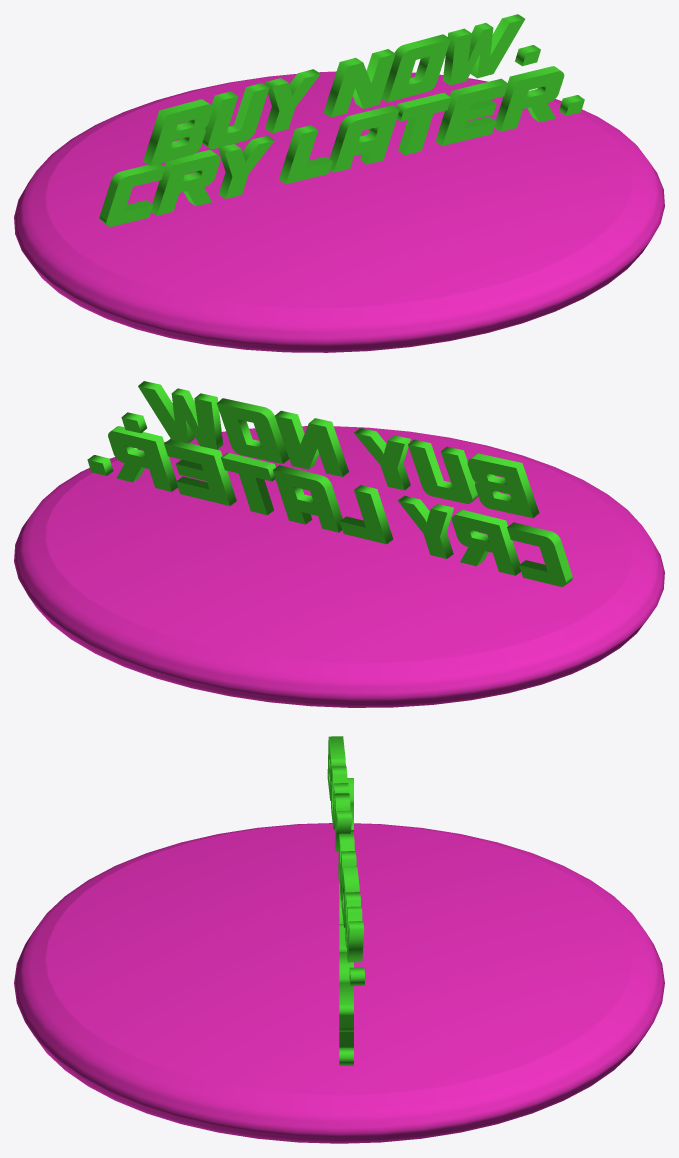
The model's file is buynow ring.gltf.
3 views of the same model, one above another, from view 1: azimuth 30°, elevation 25°; view 2: azimuth 150°, elevation 25°; view 3: azimuth 270°, elevation 25° (orthographic). The views are drawn at different scales.
Visible parts, largest first — view 1: Torus, Text.024, Text.023; view 2: Torus, Text.024, Text.023; view 3: Torus, Text.023, Text.024.
Boxes of the visible parts, x1,y1,x2,y2 form: Torus: (14,71,664,352); Text.024: (99,66,584,226); Text.023: (143,14,540,165); Torus: (14,426,664,707); Text.024: (87,426,572,586); Text.023: (121,381,539,518); Torus: (14,823,664,1143); Text.023: (327,736,364,985); Text.024: (339,778,353,1065).
Size of the model in its own units: 13.96 by 3.85 by 12.76.
